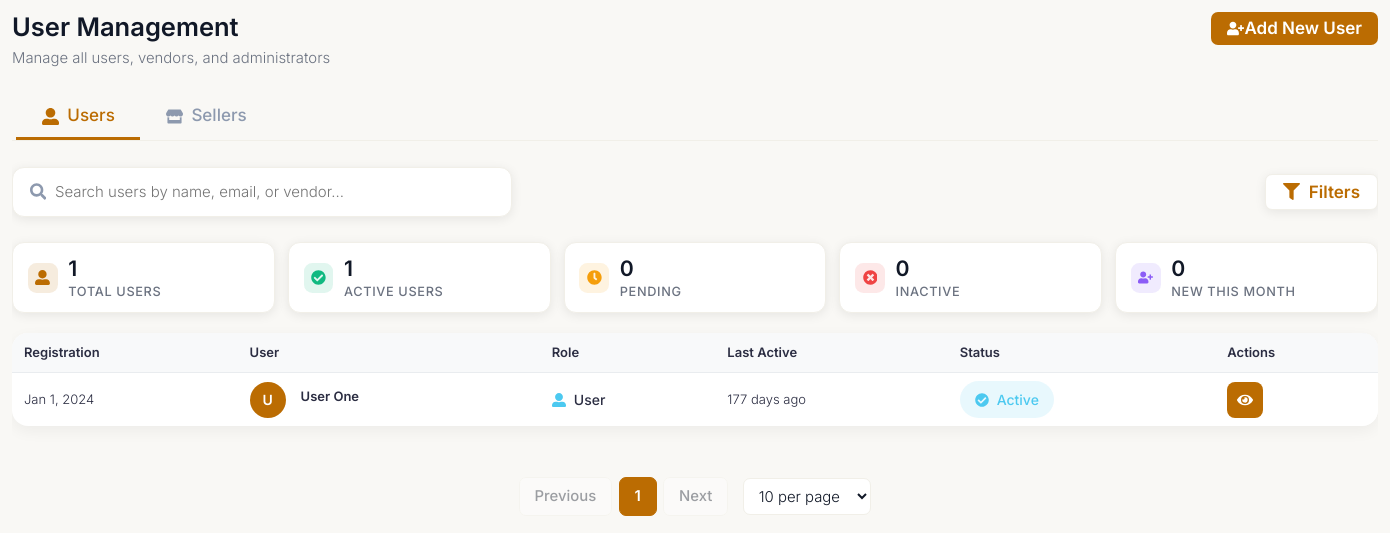
Test: UsersPage › switches to sellers tab
Click the text "Sellers" at point(206, 115), box left=166, top=105, right=247, bottom=125
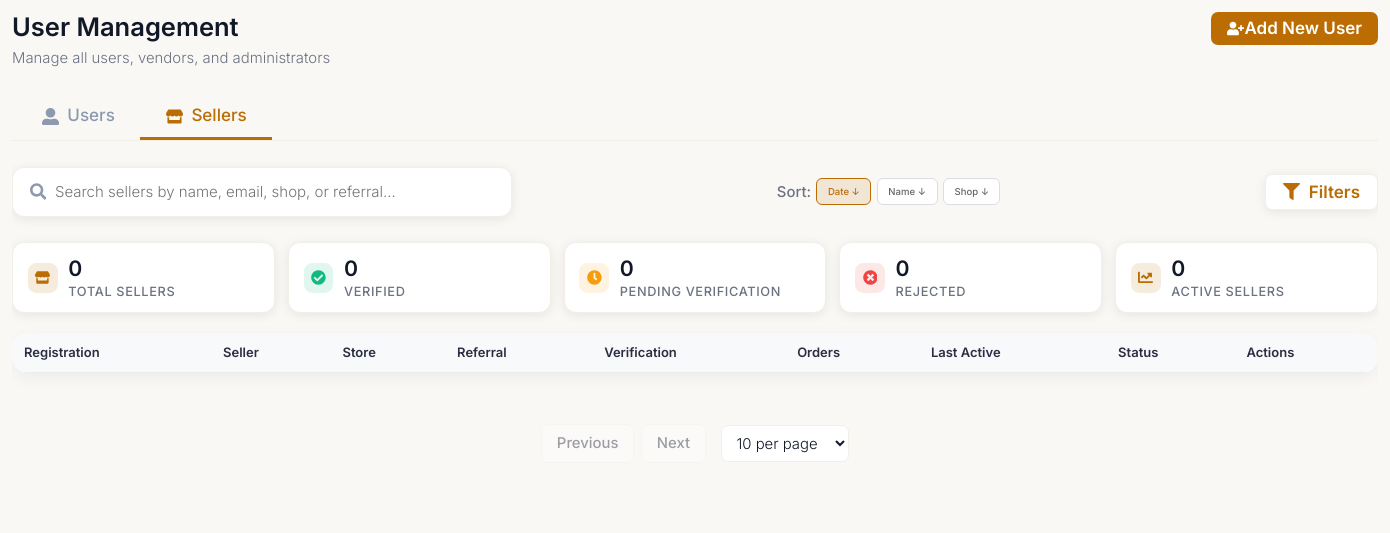
Now the text "Total Sellers" is shown, box left=68, top=284, right=175, bottom=300
